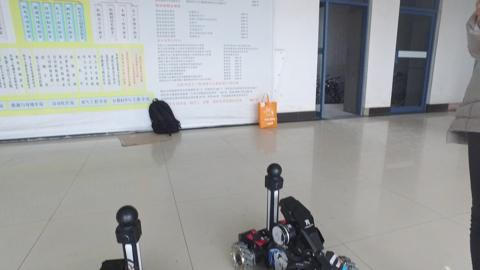bag: (145, 94, 184, 139), (252, 92, 283, 129)
chariot: (224, 156, 357, 270)
